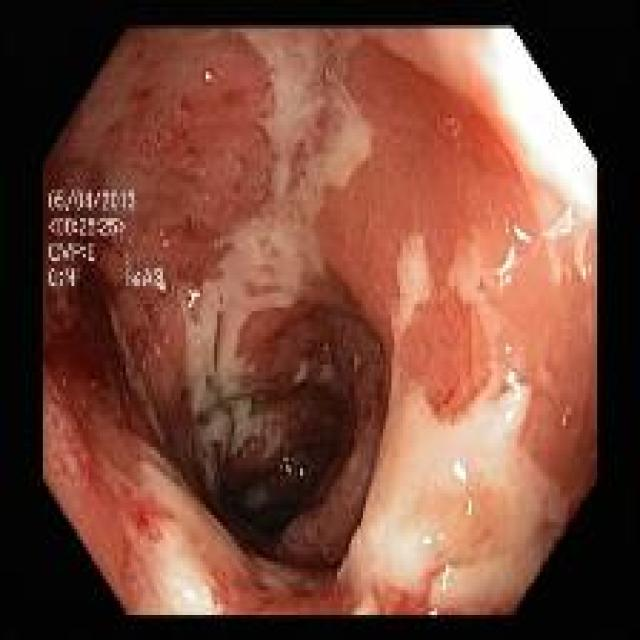ulcerative-colitis: (45, 28, 596, 614)
